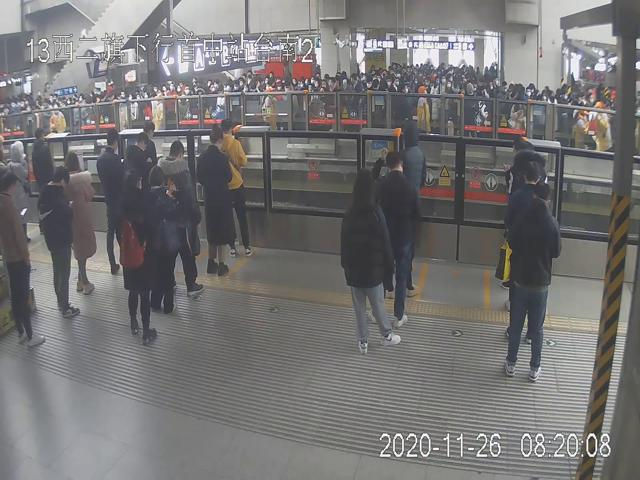person: (503, 181, 561, 381), (340, 171, 401, 352), (368, 152, 420, 328), (115, 170, 159, 345), (155, 140, 202, 296), (39, 168, 80, 319), (197, 124, 232, 276), (64, 150, 96, 295), (221, 117, 254, 256), (97, 129, 126, 273)
